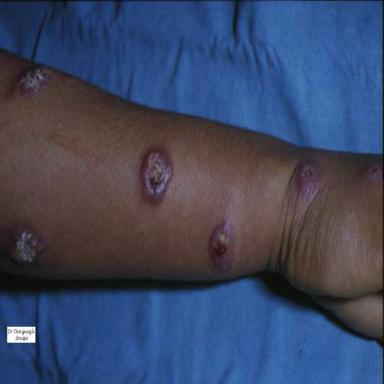Leishmanios: (140, 147, 173, 202), (210, 217, 233, 271), (10, 230, 42, 263), (296, 161, 323, 199), (19, 66, 50, 93)
